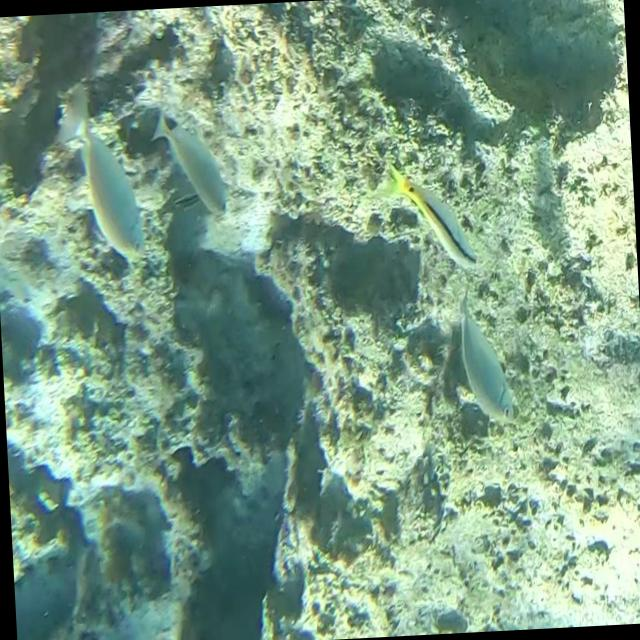Sokar Baligi: (44, 73, 160, 284), (145, 92, 242, 238), (451, 277, 528, 434)
